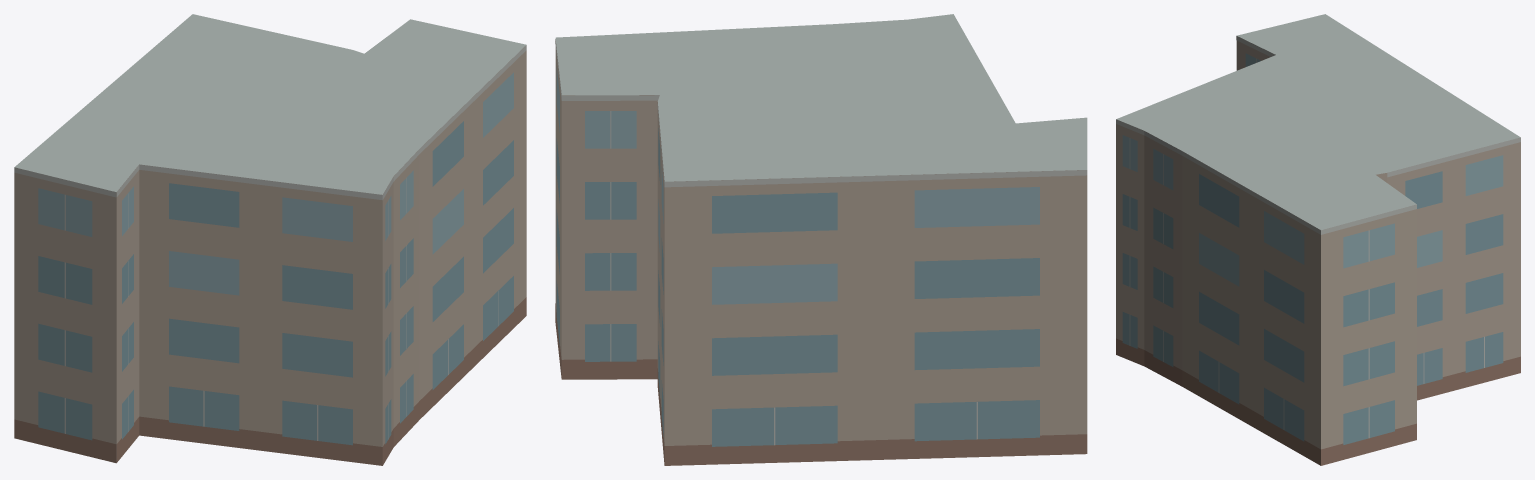
The model's file is survey-upis-32623600.glb.
The picture shows the model from 3 angles, left to right: view 1: azimuth 30°, elevation 25°; view 2: azimuth 150°, elevation 25°; view 3: azimuth 270°, elevation 25°; orthographic projection. The views are drawn at different scales.
Visible parts, largest first — view 1: survey-upis-32623600.tmp; view 2: survey-upis-32623600.tmp; view 3: survey-upis-32623600.tmp.
Boxes of the visible parts, <box> form: survey-upis-32623600.tmp: <box>14,14,526,465</box>; survey-upis-32623600.tmp: <box>555,14,1087,465</box>; survey-upis-32623600.tmp: <box>1116,14,1520,465</box>.
Size of the model in its own units: 24.32 by 12.35 by 19.24.
